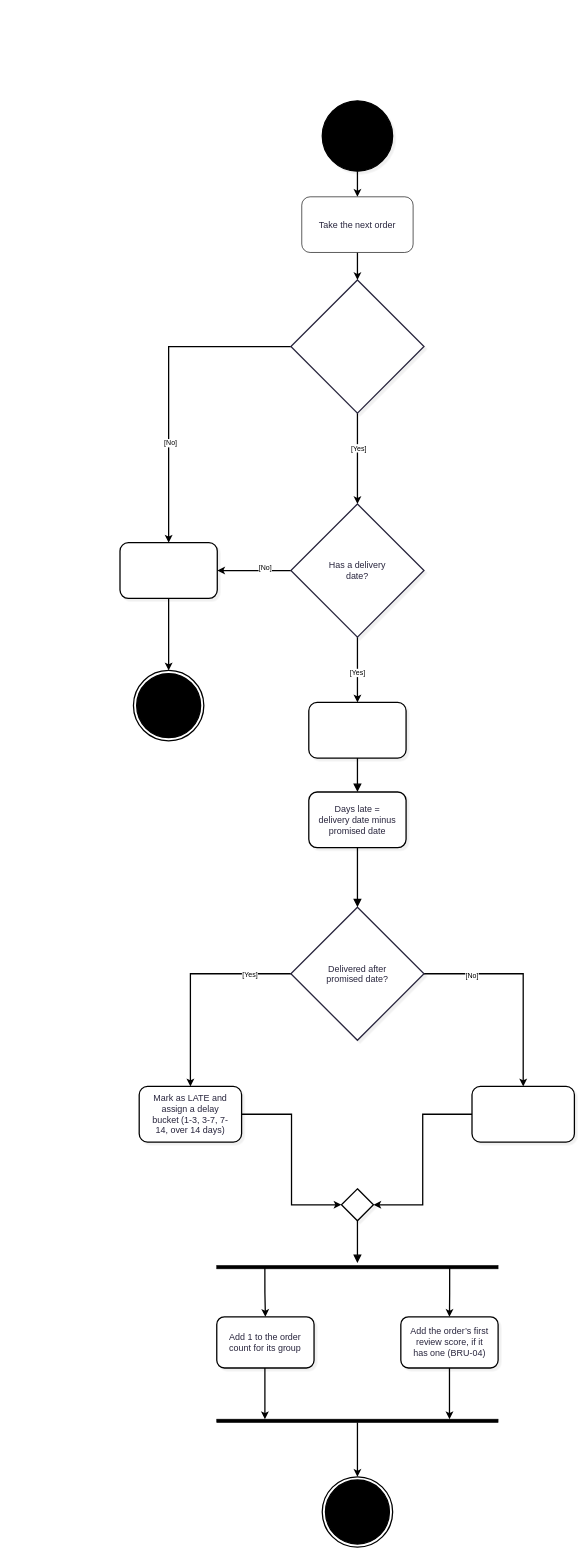
The diagram is 588 pixels wide and 1558 high, and some of its shapes have lost their labels. The centre of each missing label's shape, as x and y in pixels:
"Add order to the delivery base (BRU-02)" belongs at [358,731].
"Exclude order from delivery KPIs" belongs at [169,571].
"Mark as ON TIME" belongs at [524,1115].
"Status is delivered?" belongs at [358,347].
